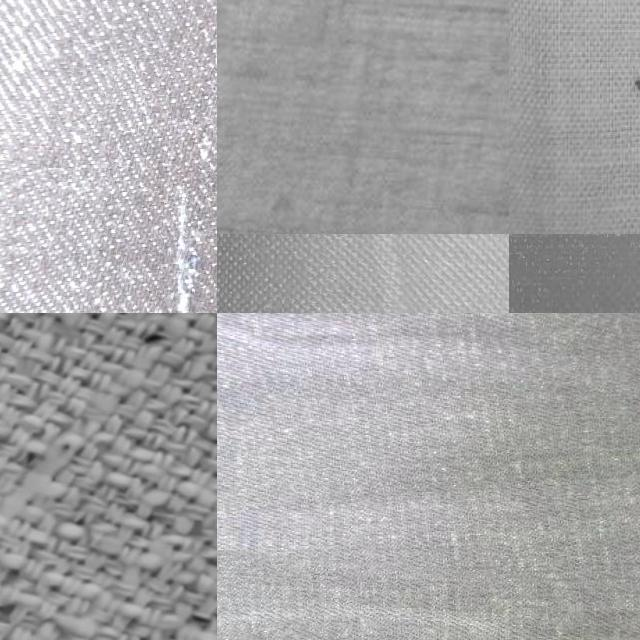Hole: (509, 233, 640, 313), (602, 49, 640, 126)
Thread_other: (87, 0, 217, 313), (217, 556, 640, 640)
